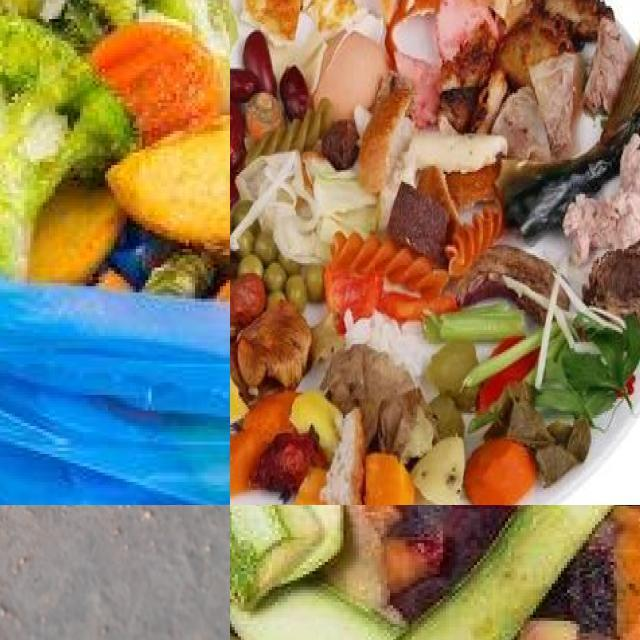Garbage: (230, 0, 640, 505), (230, 505, 640, 640)
